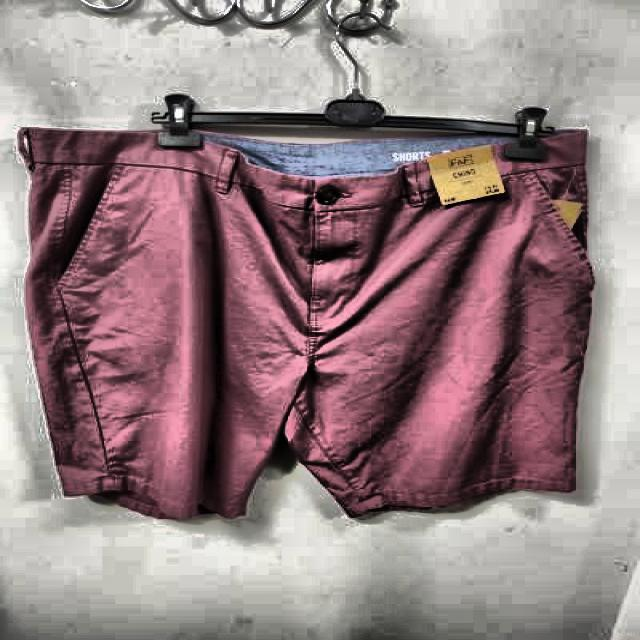clothes: (19, 119, 598, 526)
